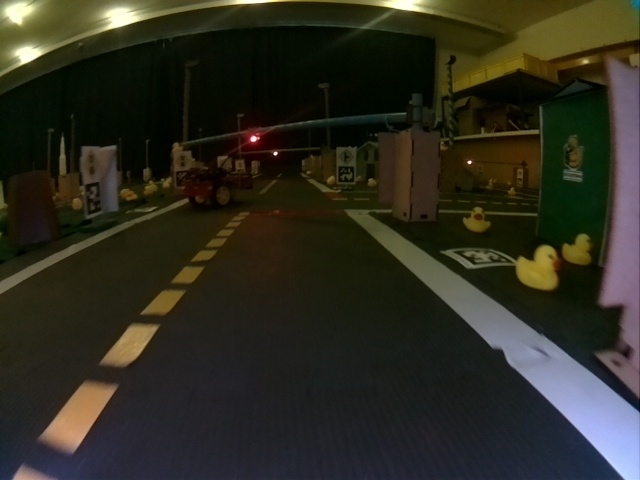Duckie: (516, 246, 559, 291), (564, 234, 593, 265), (464, 207, 490, 232), (126, 191, 136, 201), (508, 188, 517, 197), (326, 176, 334, 186), (368, 179, 377, 187)
Duckiebot: (184, 167, 253, 206)
Intersection sign: (338, 149, 354, 163)
QR code: (447, 248, 515, 268), (85, 188, 101, 215), (338, 166, 355, 184)
Signal sign: (82, 148, 102, 181)
Traffic light: (270, 149, 279, 157)
